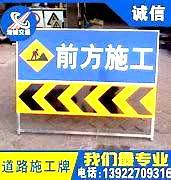sign: (16, 29, 157, 118)
